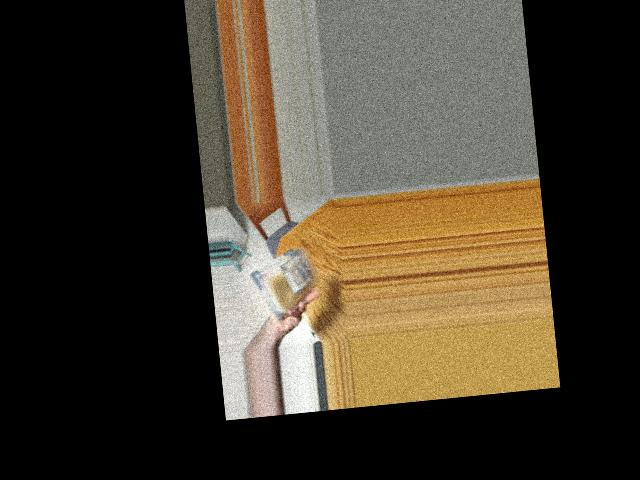cheese: (252, 241, 314, 318)
